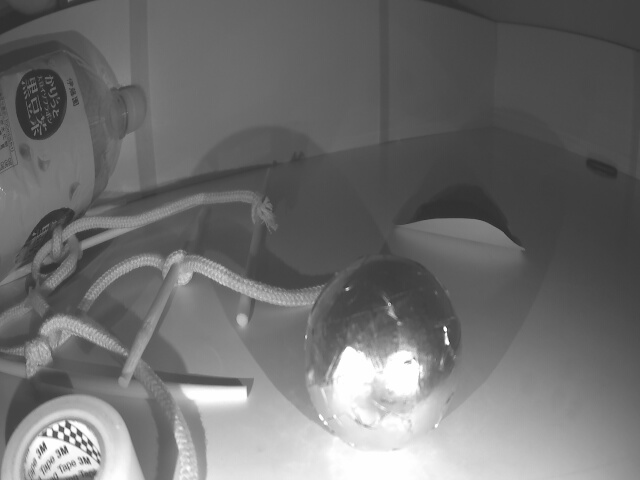Live: (303, 255, 469, 444)
